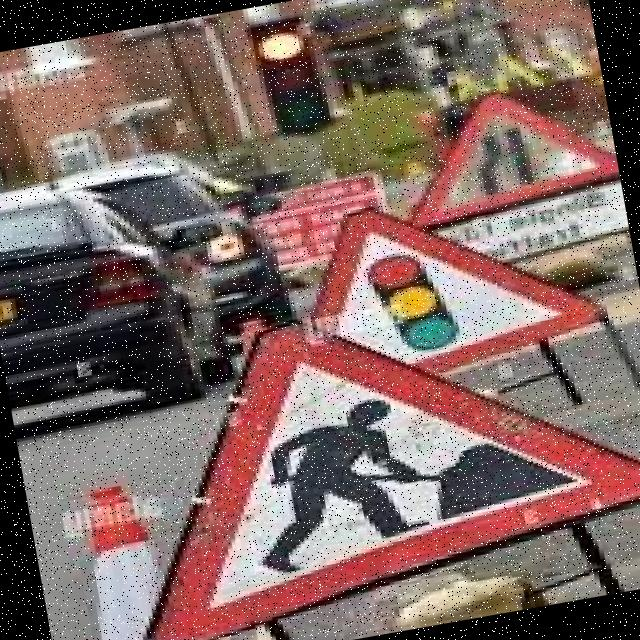light_traffic: (304, 201, 611, 375)
road_work: (143, 318, 640, 640)
